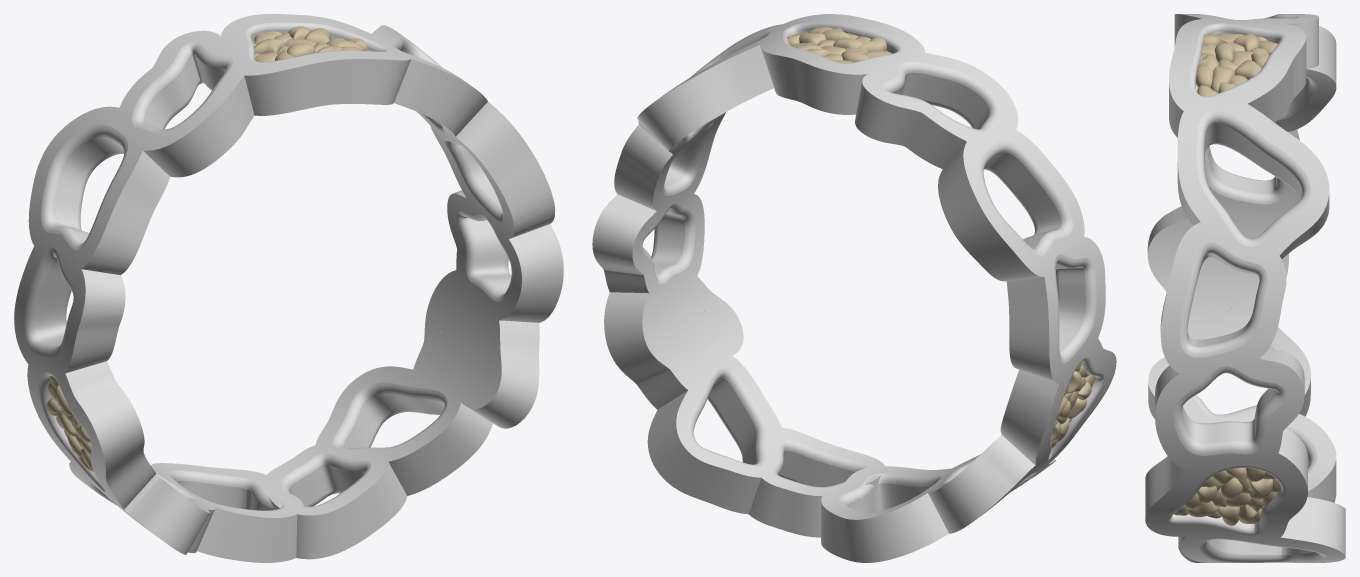
The model's file is ring.glb.
3 views of the same model, side by side, from view 1: azimuth 30°, elevation 25°; view 2: azimuth 150°, elevation 25°; view 3: azimuth 270°, elevation 25° (orthographic). The views are drawn at different scales.
Visible parts, largest first — view 1: Object, Object.001, Object.003, Object.004; view 2: Object, Object.001, Object.003, Object.004; view 3: Object, Object.005, Object.003, Object.002.
Boxes of the visible parts, left/top/right/bottom form: Object: left=14, top=14, right=563, bottom=562; Object.001: left=431, top=296, right=484, bottom=384; Object.003: left=253, top=26, right=370, bottom=62; Object.004: left=46, top=376, right=93, bottom=471; Object: left=592, top=14, right=1116, bottom=562; Object.001: left=657, top=293, right=725, bottom=373; Object.003: left=786, top=27, right=891, bottom=63; Object.004: left=1051, top=362, right=1095, bottom=447; Object: left=1145, top=14, right=1345, bottom=562; Object.005: left=1174, top=468, right=1280, bottom=525; Object.003: left=1196, top=33, right=1277, bottom=96; Object.002: left=1174, top=217, right=1257, bottom=327.
Size of the model in its own units: 0.0205 by 0.0205 by 0.00748.
